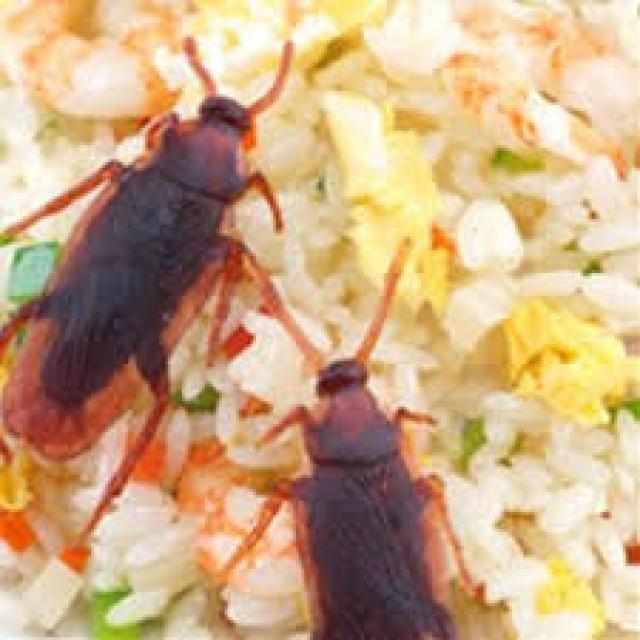Cockroach: (0, 9, 322, 513), (234, 296, 497, 640)
